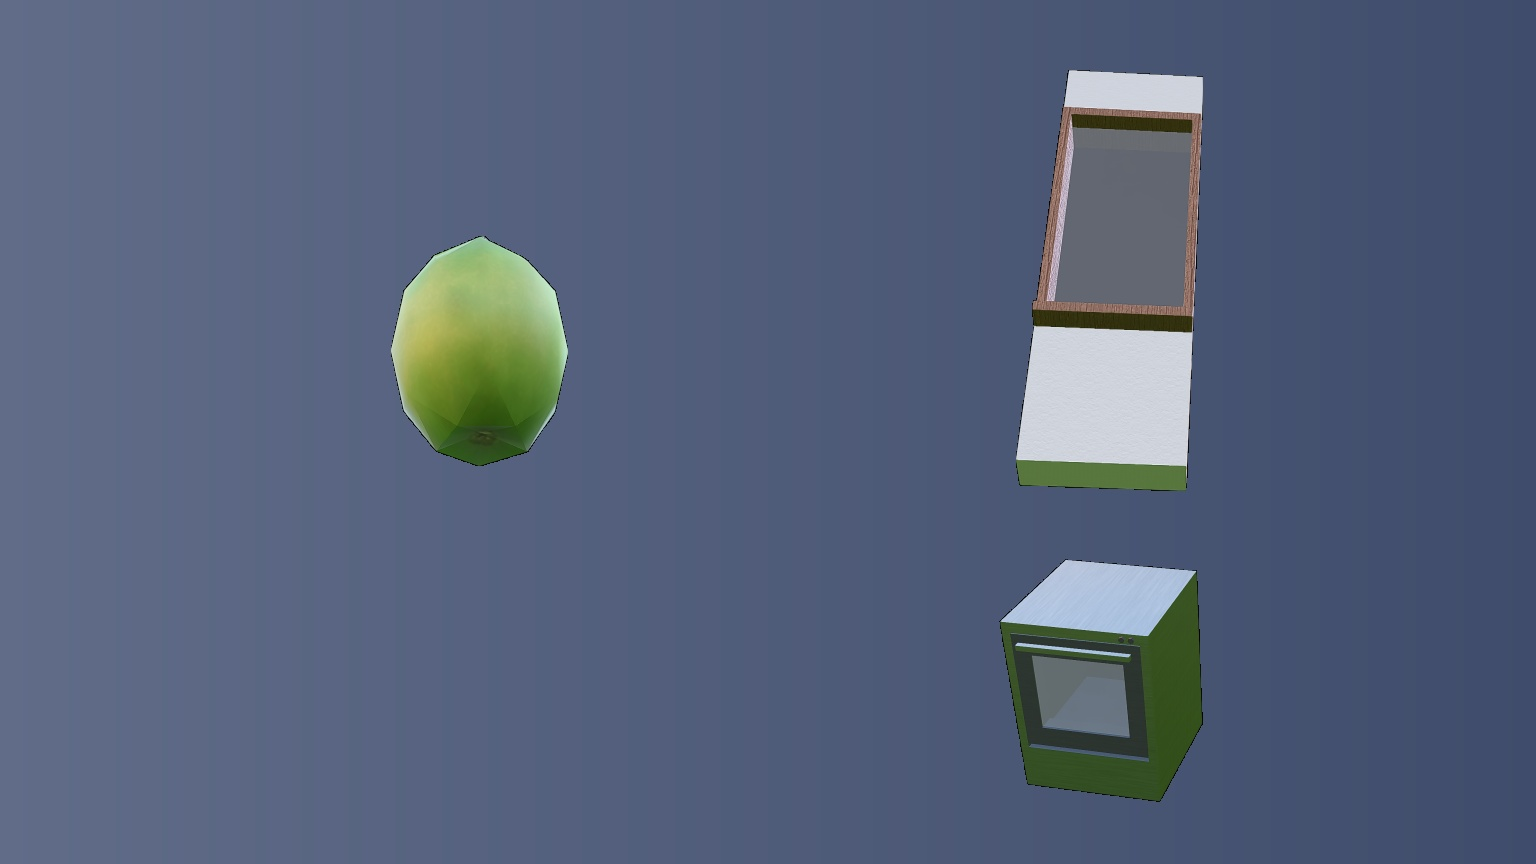horno: (999, 559, 1203, 802)
manzana: (390, 235, 569, 467)
ventana: (1015, 69, 1204, 492)
